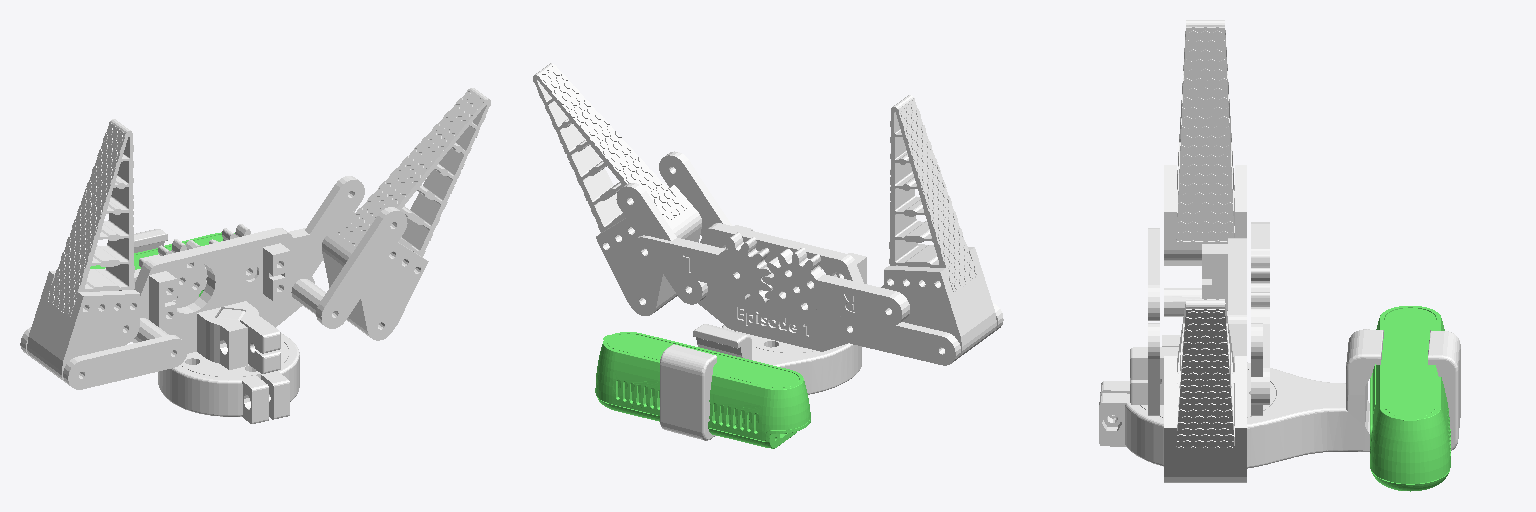
robot.urdf — gripper:
<?xml version="1.0" encoding="utf-8"?>
<!-- This URDF was automatically created by SolidWorks to URDF Exporter! Originally created by Stephen Brawner (brawner@gmail.com) 
     Commit Version: 1.6.0-4-g7f85cfe  Build Version: 1.6.7995.38578
     For more information, please see http://wiki.ros.org/sw_urdf_exporter -->
<robot
  name="gripper">
  <!-- 工具坐标系（新的根）：手指伸出方向 = +Z，符合末端执行器惯例。
       原来的 gripper_base_link 是 SolidWorks 导出的装配体坐标系，手指朝 +Y。
       这里不去改动那一大堆关节原点/轴/mimic 系数（改一处错一处），而是加一节
       fixed joint 把整个模型绕 X 转 +90°：base 的 +Y → mount 的 +Z。
       X（两指开合方向）保持不变。 -->
  <link
    name="gripper_mount" />
  <joint
    name="gripper_mount_joint"
    type="fixed">
    <origin
      xyz="0 0 0"
      rpy="1.5707963 0 0" />
    <parent
      link="gripper_mount" />
    <child
      link="gripper_base_link" />
  </joint>
  <link
    name="gripper_base_link">
    <inertial>
      <origin
        xyz="0.00091117 0.0065095 -0.01463"
        rpy="0 0 0" />
      <mass
        value="0.065014" />
      <inertia
        ixx="3.3783E-05"
        ixy="-2.5689E-07"
        ixz="9.1004E-07"
        iyy="4.4723E-05"
        iyz="2.8879E-06"
        izz="2.0637E-05" />
    </inertial>
    <visual>
      <origin
        xyz="0 0 0"
        rpy="0 0 0" />
      <geometry>
        <mesh
          filename="package://gripper/meshes/gripper_base_link.STL" />
      </geometry>
      <material
        name="">
        <color
          rgba="1 1 1 1" />
      </material>
    </visual>
    <collision>
      <origin
        xyz="0 0 0"
        rpy="0 0 0" />
      <geometry>
        <mesh
          filename="package://gripper/meshes/gripper_base_link.STL" />
      </geometry>
    </collision>
  </link>
  <link
    name="link_gear1">
    <inertial>
      <origin
        xyz="-0.00807490304907014 0.0107570544809771 0.00470516629266777"
        rpy="0 0 0" />
      <mass
        value="0.00474977495749991" />
      <inertia
        ixx="7.83389362892289E-07"
        ixy="5.82559425757126E-07"
        ixz="1.77089643142207E-10"
        iyy="6.4630220451341E-07"
        iyz="-1.67800639848209E-10"
        izz="1.40127565418021E-06" />
    </inertial>
    <visual>
      <origin
        xyz="0 0 0"
        rpy="0 0 0" />
      <geometry>
        <mesh
          filename="package://gripper/meshes/link_gear1.STL" />
      </geometry>
      <material
        name="">
        <color
          rgba="1 1 1 1" />
      </material>
    </visual>
    <collision>
      <origin
        xyz="0 0 0"
        rpy="0 0 0" />
      <geometry>
        <mesh
          filename="package://gripper/meshes/link_gear1.STL" />
      </geometry>
    </collision>
  </link>
  <!-- 驱动关节：关节值直接就是舵机指令角（0~110°，弧度制 0~1.91987）。
       标定点：90° = 连杆平行状态；110° = 夹爪基本合拢（实物手指柔性，
       会自己夹紧，所以刚体模型在 ~98° 之后会出现指面互相穿透，属预期，不必处理）。
       0° 时张开约 92mm。

       原始导出里关节值是机构几何角 q，这里通过 origin 预转 +50° + axis 取反
       换算成指令角坐标：q = 50° - 关节值。origin 的 rpy 与 axis 同为 Z 轴、
       可交换，Rz(50°)·Rz(-s) = Rz(q)，所以子连杆位置与原来完全一致，
       只是关节读数的零点和方向变了。 -->
  <joint
    name="joint_gear1"
    type="revolute">
    <origin
      xyz="-0.013 0.03 -0.0217"
      rpy="0 0 0.8726646" />
    <parent
      link="gripper_base_link" />
    <child
      link="link_gear1" />
    <axis
      xyz="0 0 -1" />
    <limit
      lower="0"
      upper="1.91987"
      effort="0"
      velocity="0" />
  </joint>
  <link
    name="link_finger1">
    <inertial>
      <origin
        xyz="-0.00872921596551027 0.0101576300716104 0.0228999998374587"
        rpy="0 0 0" />
      <mass
        value="0.0199992813021374" />
      <inertia
        ixx="4.35103993894113E-06"
        ixy="-8.22954317741796E-07"
        ixz="-2.86563653886116E-08"
        iyy="2.17742276586541E-06"
        iyz="-1.11363506800047E-07"
        izz="5.34363768417929E-06" />
    </inertial>
    <visual>
      <origin
        xyz="0 0 0"
        rpy="0 0 0" />
      <geometry>
        <mesh
          filename="package://gripper/meshes/link_finger1.STL" />
      </geometry>
      <material
        name="">
        <color
          rgba="1 1 1 1" />
      </material>
    </visual>
    <collision>
      <origin
        xyz="0 0 0"
        rpy="0 0 0" />
      <geometry>
        <mesh
          filename="package://gripper/meshes/link_finger1.STL" />
      </geometry>
    </collision>
  </link>
  <!-- 平行四边形的连杆：手指相对 gear1 反向转，绝对姿态保持不变（平行夹持）。
       需要 值 = -q = 关节值 - 50°，故 multiplier=1、offset=-50°。 -->
  <joint
    name="joint_finger1"
    type="revolute">
    <origin
      xyz="-0.025471 0.030842 -0.0012"
      rpy="0 0 0" />
    <parent
      link="link_gear1" />
    <child
      link="link_finger1" />
    <axis
      xyz="0 0 1" />
    <limit
      lower="-0.8727"
      upper="1.0473"
      effort="0"
      velocity="0" />
    <mimic
      joint="joint_gear1"
      multiplier="1"
      offset="-0.8726646" />
  </joint>
  <link
    name="link_gear2">
    <inertial>
      <origin
        xyz="0.00791910195277552 0.0105109506891273 0.00688621452455042"
        rpy="0 0 0" />
      <mass
        value="0.00495079844234329" />
      <inertia
        ixx="8.14689116843516E-07"
        ixy="-6.04974824255628E-07"
        ixz="-6.49087562121823E-11"
        iyy="6.65386370424356E-07"
        iyz="-7.40886042344477E-11"
        izz="1.45041619782907E-06" />
    </inertial>
    <visual>
      <origin
        xyz="0 0 0"
        rpy="0 0 0" />
      <geometry>
        <mesh
          filename="package://gripper/meshes/link_gear2.STL" />
      </geometry>
      <material
        name="">
        <color
          rgba="1 1 1 1" />
      </material>
    </visual>
    <collision>
      <origin
        xyz="0 0 0"
        rpy="0 0 0" />
      <geometry>
        <mesh
          filename="package://gripper/meshes/link_gear2.STL" />
      </geometry>
    </collision>
  </link>
  <!-- 右半边：值仍保持为机构几何角 q = 50° - 关节值，
       这样下游 mimic 它的 joint_finger2 / joint_f2 不必再改。 -->
  <joint
    name="joint_gear2"
    type="revolute">
    <origin
      xyz="0.013 0.03 -0.023884"
      rpy="0 0 0" />
    <parent
      link="gripper_base_link" />
    <child
      link="link_gear2" />
    <axis
      xyz="0 0 -1" />
    <limit
      lower="-1.0473"
      upper="0.8727"
      effort="0"
      velocity="0" />
    <mimic
      joint="joint_gear1"
      multiplier="-1"
      offset="0.8726646" />
  </joint>
  <link
    name="link_finger2">
    <inertial>
      <origin
        xyz="0.00872921596554121 0.0101576300715338 0.0229000002473265"
        rpy="0 0 0" />
      <mass
        value="0.0199992813023463" />
      <inertia
        ixx="4.35103993920624E-06"
        ixy="8.22954317746467E-07"
        ixz="2.8656427840804E-08"
        iyy="2.17742276587183E-06"
        iyz="-1.11363875743444E-07"
        izz="5.34363768444267E-06" />
    </inertial>
    <visual>
      <origin
        xyz="0 0 0"
        rpy="0 0 0" />
      <geometry>
        <mesh
          filename="package://gripper/meshes/link_finger2.STL" />
      </geometry>
      <material
        name="">
        <color
          rgba="1 1 1 1" />
      </material>
    </visual>
    <collision>
      <origin
        xyz="0 0 0"
        rpy="0 0 0" />
      <geometry>
        <mesh
          filename="package://gripper/meshes/link_finger2.STL" />
      </geometry>
    </collision>
  </link>
  <joint
    name="joint_finger2"
    type="revolute">
    <origin
      xyz="0.025471 0.030842 0.0009835"
      rpy="0 0 0" />
    <parent
      link="link_gear2" />
    <child
      link="link_finger2" />
    <axis
      xyz="0 0 1" />
    <limit
      lower="-1.0473"
      upper="0.8727"
      effort="0"
      velocity="0" />
    <mimic
      joint="joint_gear2"
      multiplier="1"
      offset="0" />
  </joint>
  <link
    name="link_f1">
    <inertial>
      <origin
        xyz="-0.0127353376659726 0.0154211275376913 0.0209000000000003"
        rpy="0 0 0" />
      <mass
        value="0.00463168134870463" />
      <inertia
        ixx="5.80399788139715E-07"
        ixy="4.29488771263048E-07"
        ixz="1.9041409762883E-23"
        iyy="4.15022683419088E-07"
        iyz="-3.28917405126999E-23"
        izz="9.83071321295591E-07" />
    </inertial>
    <visual>
      <origin
        xyz="0 0 0"
        rpy="0 0 0" />
      <geometry>
        <mesh
          filename="package://gripper/meshes/link_f1.STL" />
      </geometry>
      <material
        name="">
        <color
          rgba="1 1 1 1" />
      </material>
    </visual>
    <collision>
      <origin
        xyz="0 0 0"
        rpy="0 0 0" />
      <geometry>
        <mesh
          filename="package://gripper/meshes/link_f1.STL" />
      </geometry>
    </collision>
  </link>
  <joint
    name="joint_f1"
    type="revolute">
    <origin
      xyz="-0.035 0.018 -0.0209"
      rpy="0 0 0" />
    <parent
      link="gripper_base_link" />
    <child
      link="link_f1" />
    <axis
      xyz="0 0 1" />
    <limit
      lower="-1.0473"
      upper="0.8727"
      effort="0"
      velocity="0" />
    <mimic
      joint="joint_gear1"
      multiplier="-1"
      offset="0.8726646" />
  </joint>
  <link
    name="link_f2">
    <inertial>
      <origin
        xyz="0.0127353376659726 0.0154211275376913 0.0209000000000003"
        rpy="0 0 0" />
      <mass
        value="0.00463168134870463" />
      <inertia
        ixx="5.80399788139715E-07"
        ixy="-4.29488771263048E-07"
        ixz="-9.30263663912908E-24"
        iyy="4.15022683419088E-07"
        iyz="-1.69333568017557E-23"
        izz="9.83071321295591E-07" />
    </inertial>
    <visual>
      <origin
        xyz="0 0 0"
        rpy="0 0 0" />
      <geometry>
        <mesh
          filename="package://gripper/meshes/link_f2.STL" />
      </geometry>
      <material
        name="">
        <color
          rgba="1 1 1 1" />
      </material>
    </visual>
    <collision>
      <origin
        xyz="0 0 0"
        rpy="0 0 0" />
      <geometry>
        <mesh
          filename="package://gripper/meshes/link_f2.STL" />
      </geometry>
    </collision>
  </link>
  <!-- axis 原为 0 0 1，与左侧的 joint_f1 同向 —— 导出时漏了取反
       （对称的 joint_gear2 已经是 -1），两根连杆会同向摆而不是镜像。 -->
  <joint
    name="joint_f2"
    type="revolute">
    <origin
      xyz="0.035 0.018 -0.0209"
      rpy="0 0 0" />
    <parent
      link="gripper_base_link" />
    <child
      link="link_f2" />
    <axis
      xyz="0 0 -1" />
    <limit
      lower="-1.0473"
      upper="0.8727"
      effort="0"
      velocity="0" />
    <mimic
      joint="joint_gear2"
      multiplier="1"
      offset="0" />
  </joint>
  <link
    name="camera_link">
    <inertial>
      <origin
        xyz="0.0300236673094443 0.00728809003382839 -0.00731656735613178"
        rpy="0 0 0" />
      <mass
        value="0.0126199620269933" />
      <inertia
        ixx="5.45978892061688E-07"
        ixy="-6.5347588558397E-10"
        ixz="-1.50531956346884E-07"
        iyy="4.76647775321015E-06"
        iyz="-5.21883301176547E-10"
        izz="4.29355468662532E-06" />
    </inertial>
    <!-- 相机网格换成 D435_Solid.STL（原来那个是 Gemini 的模型）。两点注意：
         1) 该网格是按**毫米**建的，URDF 用米，所以必须带 scale="0.001 ..."，
            否则会大出 1000 倍；
         2) 它的局部原点在包围盒一角、而不是像原网格那样在体内，所以用 origin
            把它平移回原相机的位置——offset 取的是"两个网格包围盒中心对齐"，
            装好后相机体心仍在基座系 (2.4, 2.1, -63.7) mm，与换之前一致。
            若实际安装基准不是体心，改这里的 origin xyz 即可。 -->
    <visual>
      <origin
        xyz="-0.014704 -0.003673 0.005833"
        rpy="-1.5707963 0 0" />
      <geometry>
        <mesh
          filename="package://gripper/meshes/D435_Solid.STL"
          scale="0.001 0.001 0.001" />
      </geometry>
      <material
        name="">
        <color
          rgba="0.501960784313725 1 0.501960784313725 1" />
      </material>
    </visual>
    <collision>
      <origin
        xyz="-0.014704 -0.003673 0.005833"
        rpy="-1.5707963 0 0" />
      <geometry>
        <mesh
          filename="package://gripper/meshes/D435_Solid.STL"
          scale="0.001 0.001 0.001" />
      </geometry>
    </collision>
  </link>
  <joint
    name="camera_joint"
    type="fixed">
    <origin
      xyz="-0.027893 -0.006754 -0.056342"
      rpy="0 0 0" />
    <parent
      link="gripper_base_link" />
    <child
      link="camera_link" />
    <axis
      xyz="0 0 0" />
  </joint>
</robot>

--- What the picture shows (computed from the rendered views, not written in the file) ---
3 views of the same robot in one strip: view 1: azimuth 30°, elevation 25°; view 2: azimuth 150°, elevation 25°; view 3: azimuth 270°, elevation 25° (orthographic).
Model gripper with 9 links and 8 joints (6 revolute, 2 fixed), rooted at gripper_mount, posed every joint at zero.
Visible links, largest first — view 1: gripper_base_link, link_finger1, link_finger2, link_f2, link_f1, link_gear1, camera_link, link_gear2; view 2: gripper_base_link, link_finger1, link_finger2, camera_link, link_gear1, link_gear2, link_f2, link_f1; view 3: gripper_base_link, link_finger1, link_finger2, camera_link, link_f2, link_gear2, link_gear1, link_f1.
Boxes of the visible links, bbox=[...] form: gripper_base_link: bbox=[131, 228, 325, 423]; link_finger1: bbox=[27, 119, 139, 382]; link_finger2: bbox=[322, 88, 490, 340]; link_f2: bbox=[299, 176, 407, 328]; link_f1: bbox=[20, 327, 187, 389]; link_gear1: bbox=[134, 239, 207, 306]; camera_link: bbox=[90, 232, 234, 296]; link_gear2: bbox=[206, 224, 323, 280]; gripper_base_link: bbox=[660, 223, 866, 440]; link_finger1: bbox=[884, 95, 996, 357]; link_finger2: bbox=[533, 63, 701, 315]; camera_link: bbox=[595, 332, 810, 448]; link_gear1: bbox=[762, 248, 909, 325]; link_gear2: bbox=[631, 232, 772, 304]; link_f2: bbox=[616, 151, 731, 304]; link_f1: bbox=[836, 285, 1003, 365]; gripper_base_link: bbox=[1099, 238, 1460, 468]; link_finger1: bbox=[1164, 20, 1246, 265]; link_finger2: bbox=[1164, 299, 1246, 482]; camera_link: bbox=[1370, 306, 1450, 491]; link_f2: bbox=[1148, 323, 1262, 415]; link_gear2: bbox=[1251, 285, 1269, 404]; link_gear1: bbox=[1251, 222, 1269, 284]; link_f1: bbox=[1148, 228, 1159, 320].
Bounding box of the posed robot: 0.1908 × 0.1123 × 0.1205 m (x, y, z).
Meshes: 8 distinct files referenced, 8 mesh visuals loaded (8 binary STL).
